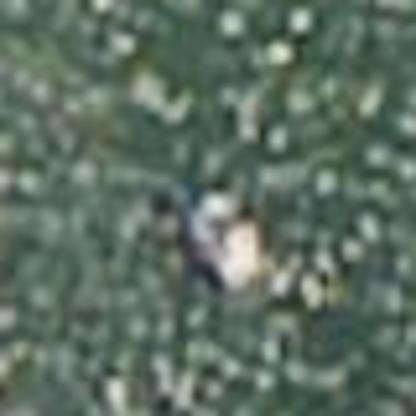ship: (155, 167, 289, 298)
